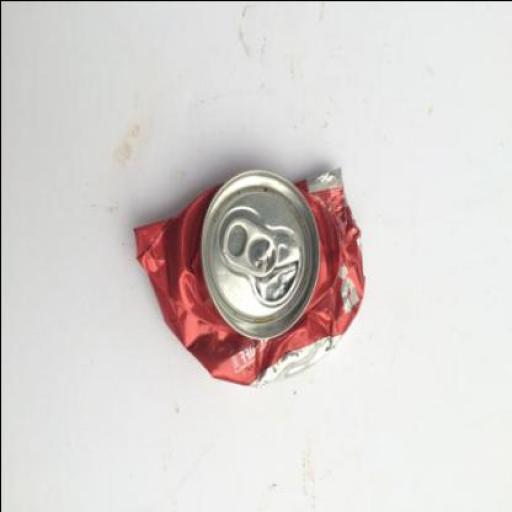metal: (132, 164, 364, 388)
